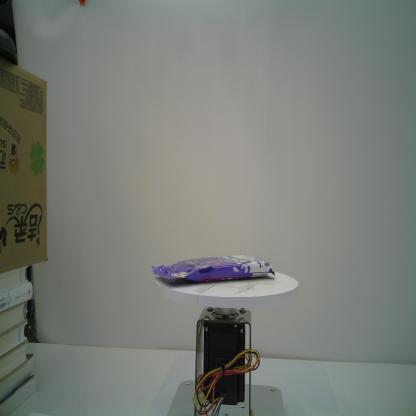Candy: (151, 254, 275, 284)
